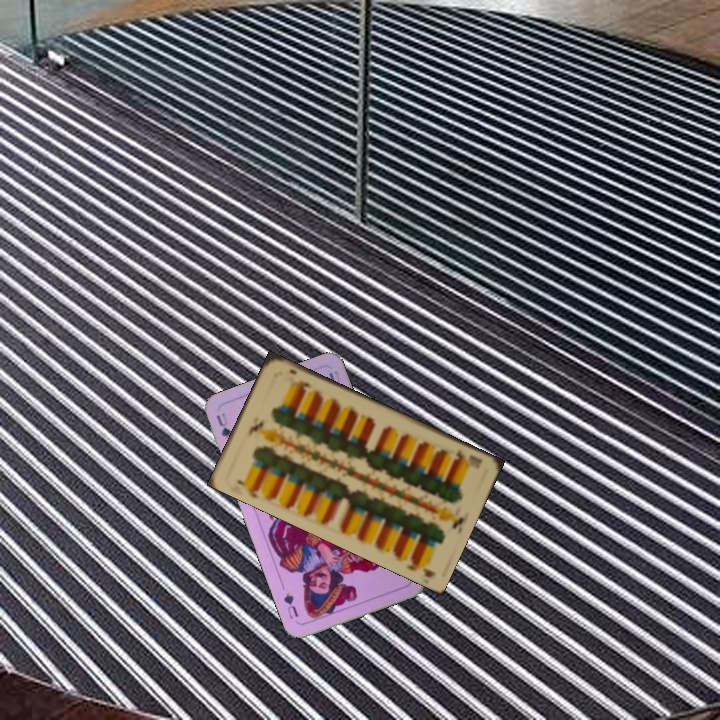E10: (450, 445, 485, 467), (233, 476, 262, 501)
GU: (212, 409, 234, 441)
